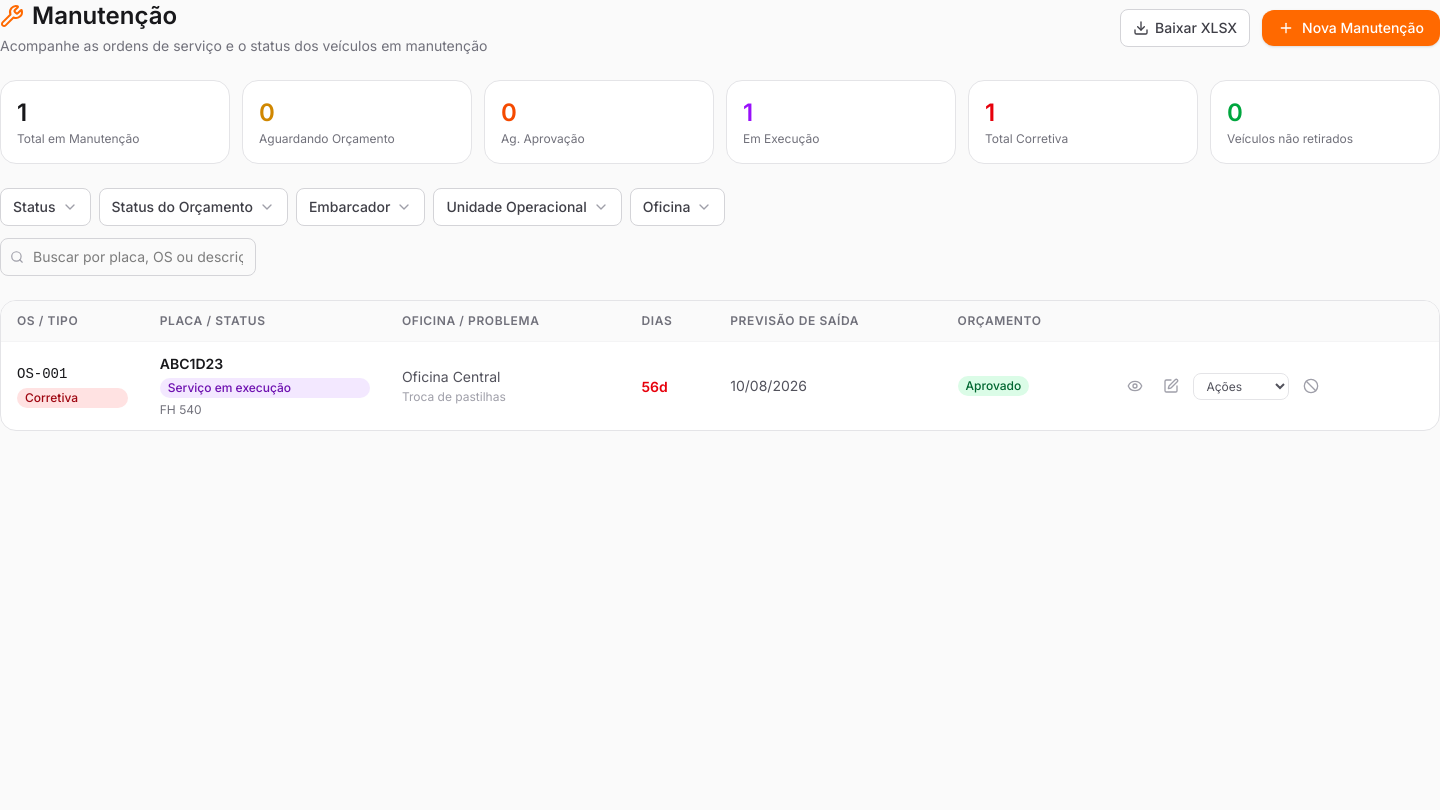
Test case: Maintenance — aviso de parcelas no cancelamento › avisa parcelas lançadas e troca o rótulo do botão
Click the button named "Cancelar OS" at [1312, 386], box [1298,372,1326,400]
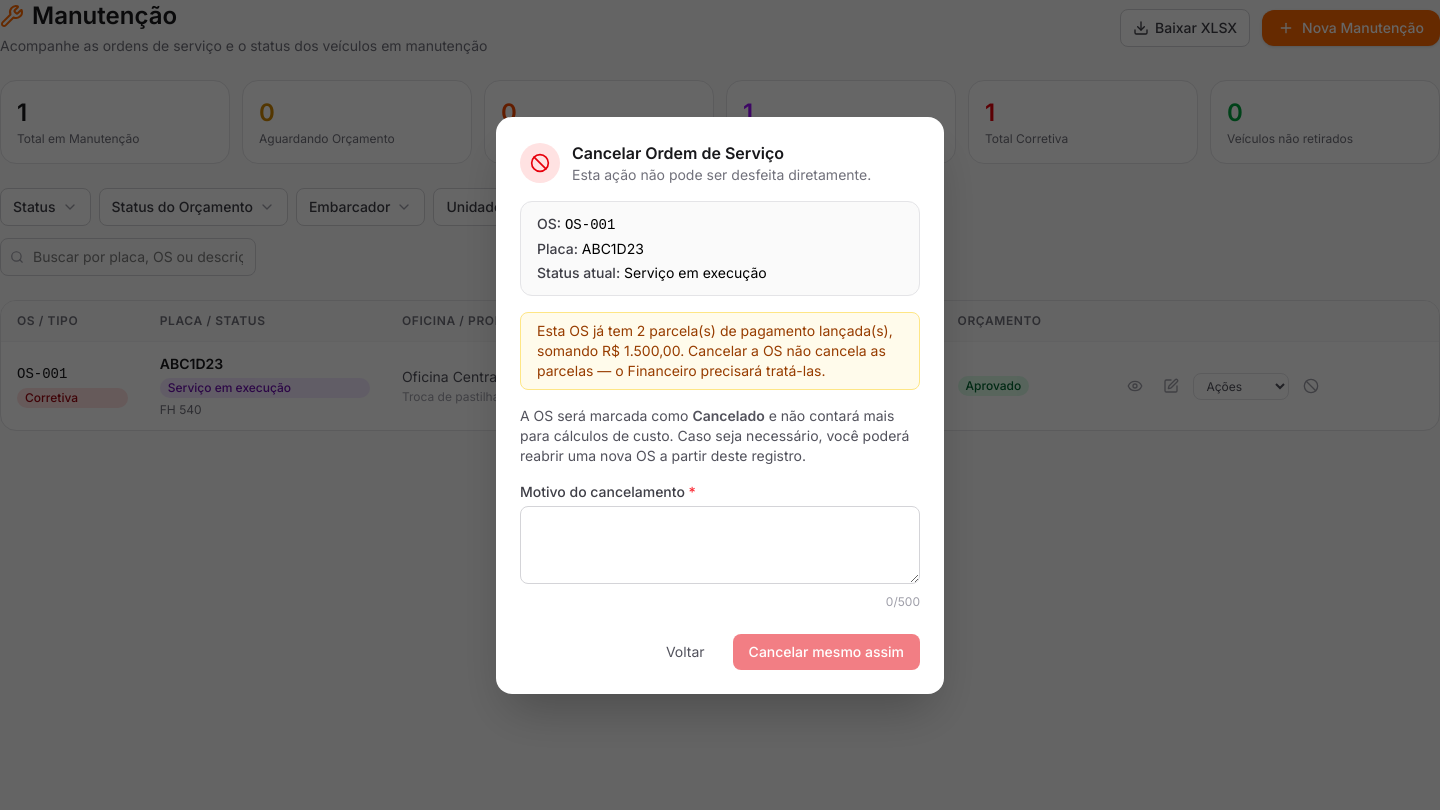
Check: the button "Cancelar mesmo assim" is shown, box [733,634,920,670]
